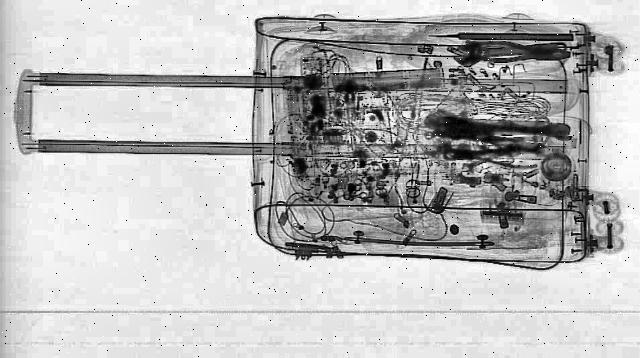Pliers: (461, 40, 569, 66), (444, 144, 542, 172)
Wrench: (448, 36, 570, 68)
